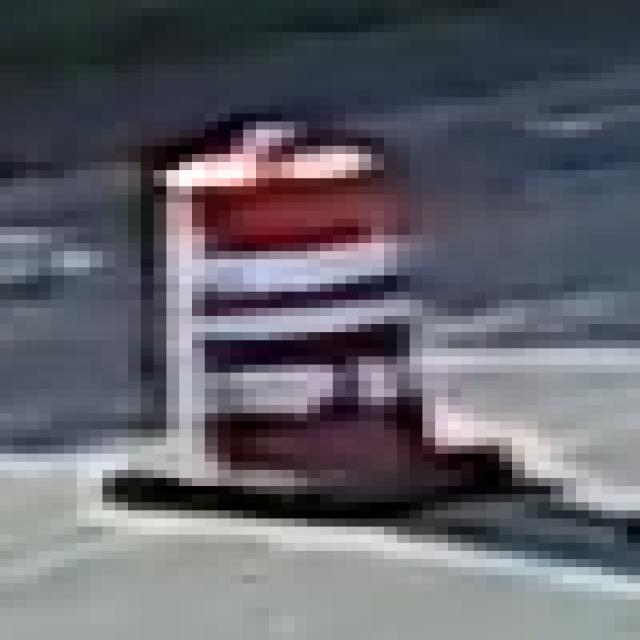big_cone: (94, 75, 600, 582)
